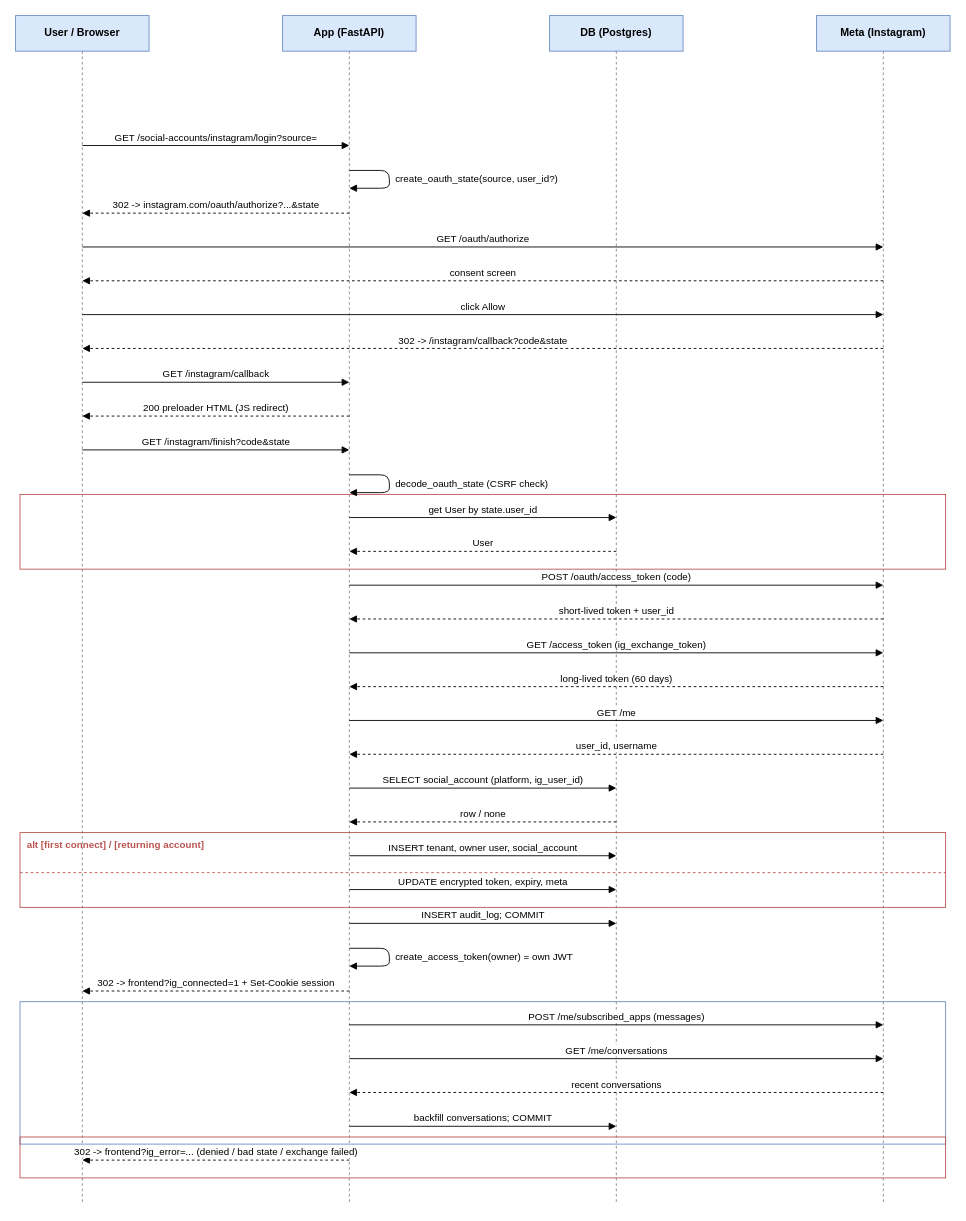
This 966x1221 diagram has some shape labels left out. The centre of each missing label's shape, as x and y in pixels:
"alt [error / consent denied: any step above]" goes at pixel 482 1157.
"background task after redirect (best-effort)" goes at pixel 482 1072.
"opt [state has user_id: connect mode]" goes at pixel 482 531.
